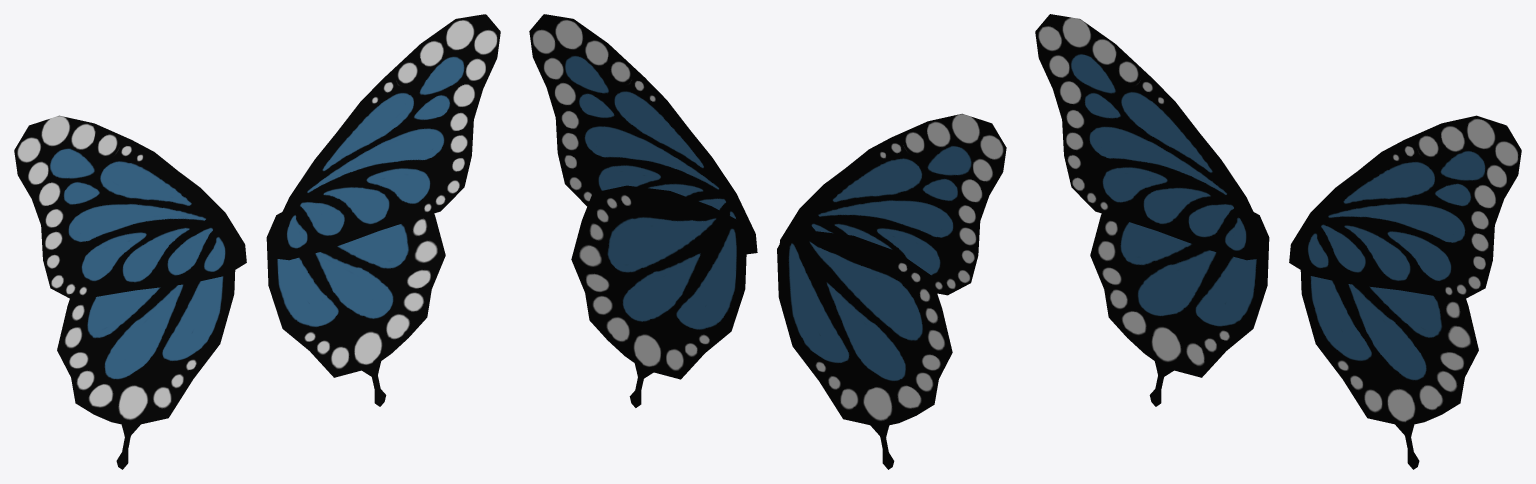
File: butterflywings.fbx
3 views of the same model, side by side, from view 1: azimuth 30°, elevation 25°; view 2: azimuth 150°, elevation 25°; view 3: azimuth 330°, elevation 25° (orthographic).
Visible parts, largest first — view 1: Plane, Plane.001, Plane.002, Plane.004; view 2: Plane.001, Plane, Plane.004, Plane.002; view 3: Plane, Plane.001, Plane.002, Plane.004.
Boxes of the visible parts, <box> form: Plane: <box>14,14,500,300</box>; Plane.001: <box>57,212,445,469</box>; Plane.002: <box>16,15,499,300</box>; Plane.004: <box>58,213,444,467</box>; Plane.001: <box>571,185,952,469</box>; Plane: <box>529,14,1006,295</box>; Plane.004: <box>572,187,951,468</box>; Plane.002: <box>531,14,1005,294</box>; Plane: <box>1035,14,1521,300</box>; Plane.001: <box>1090,212,1478,469</box>; Plane.002: <box>1036,15,1520,298</box>; Plane.004: <box>1092,215,1477,468</box>.
Bounding box in the file's own units: 569 × 420 × 12.34.
2 materials, 2 textured.
